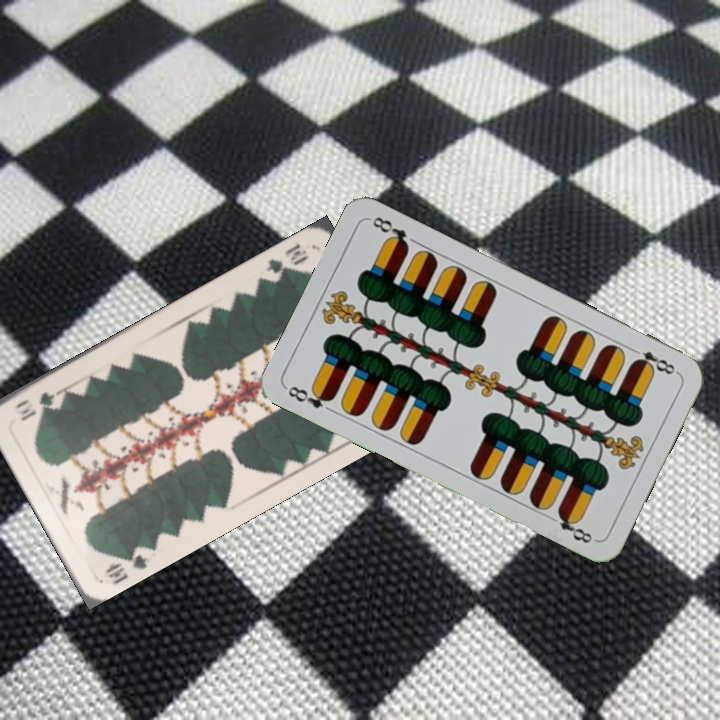E8: (626, 343, 681, 378), (282, 382, 337, 412)
G10: (101, 542, 152, 587), (261, 239, 312, 281)
